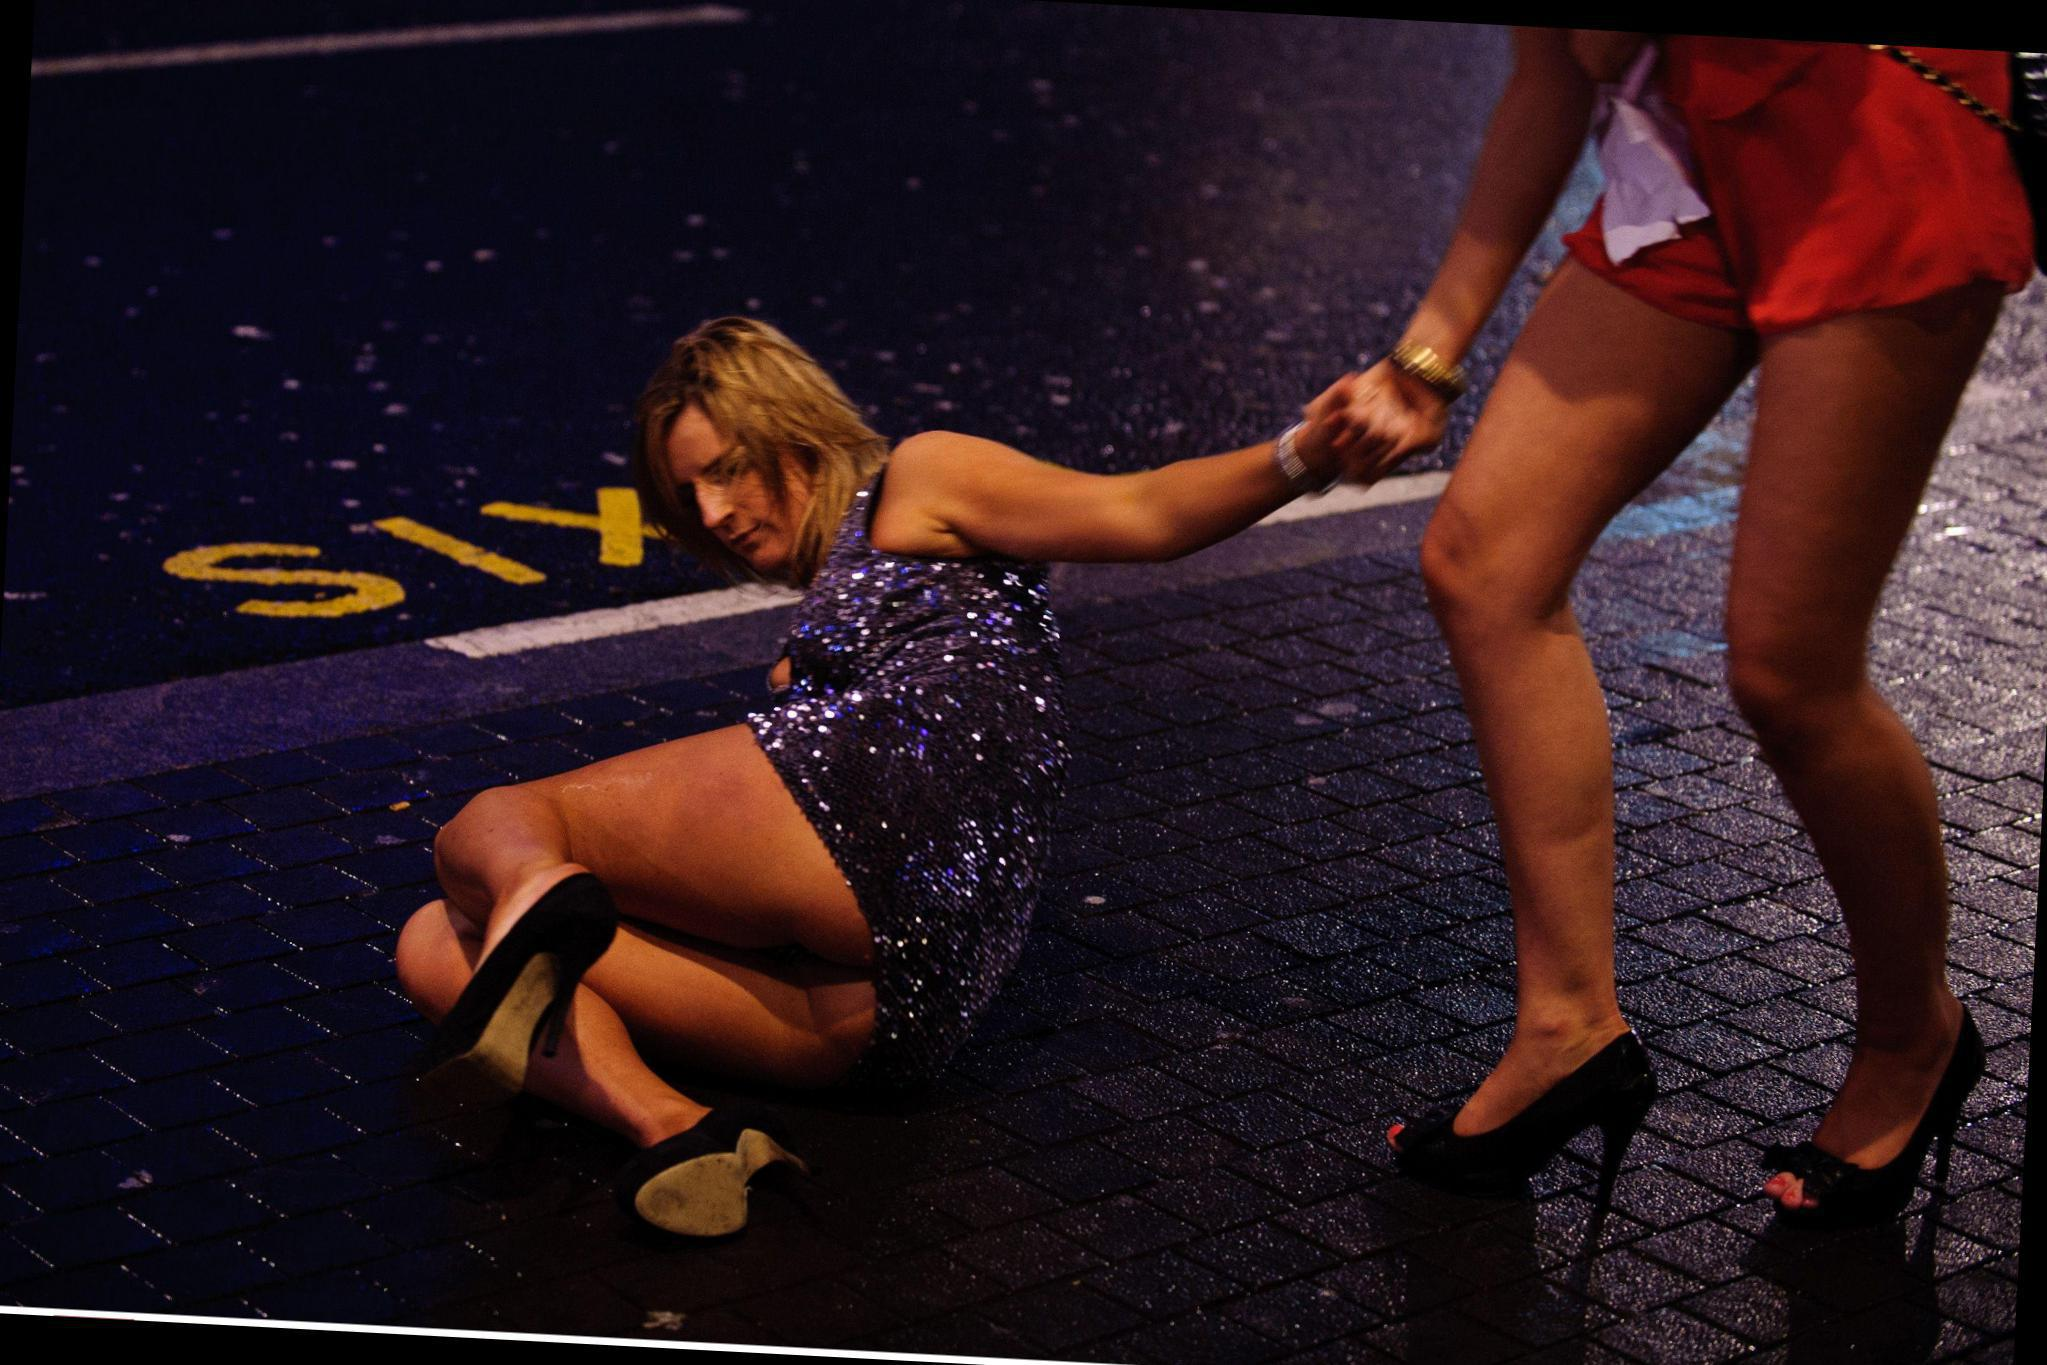Drunk: (658, 411, 816, 564)
